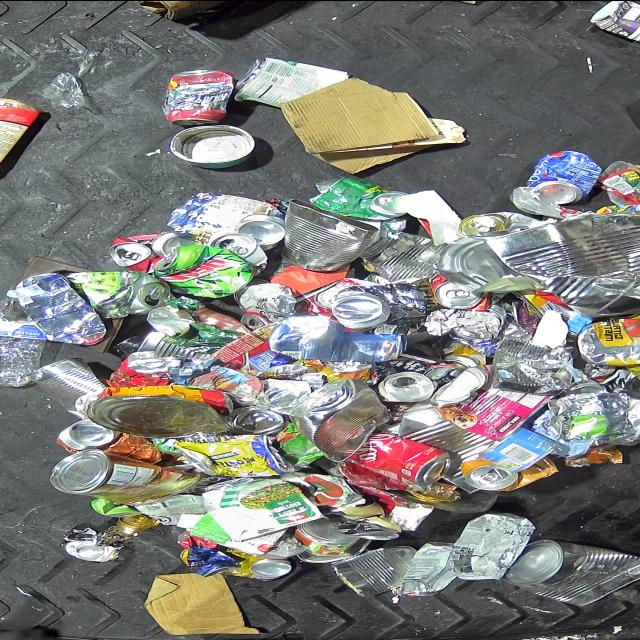can: (483, 209, 640, 317), (432, 362, 556, 440), (500, 538, 640, 606), (50, 448, 202, 505), (292, 376, 392, 462), (280, 198, 380, 272), (167, 190, 287, 250), (234, 56, 350, 108), (153, 244, 255, 298), (355, 430, 453, 486), (178, 433, 296, 478), (490, 335, 576, 395), (56, 418, 162, 463), (359, 230, 448, 282), (523, 149, 602, 205), (335, 544, 415, 598), (309, 175, 407, 218), (162, 68, 234, 125), (546, 392, 629, 441), (170, 122, 258, 168), (477, 426, 560, 472), (459, 454, 559, 492), (92, 270, 173, 316), (180, 544, 286, 579), (392, 540, 458, 596), (108, 230, 192, 272), (31, 357, 106, 396), (295, 516, 362, 556), (208, 233, 268, 275), (60, 526, 124, 562), (330, 290, 390, 328), (457, 210, 541, 237), (429, 272, 485, 309), (368, 371, 434, 402), (328, 512, 400, 540), (242, 556, 290, 580), (114, 516, 162, 540), (420, 362, 466, 387)
plastic_bottle: (1, 288, 46, 386)
